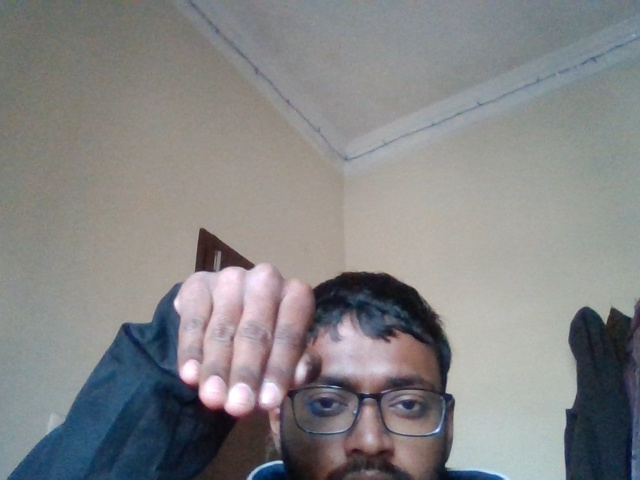morning: (158, 255, 324, 422)
